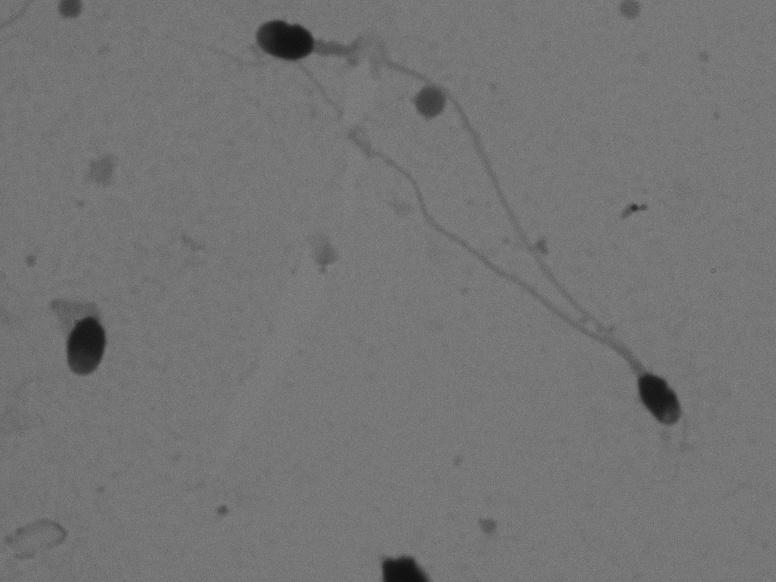Abnormal: (264, 63, 700, 478), (232, 14, 634, 327)
